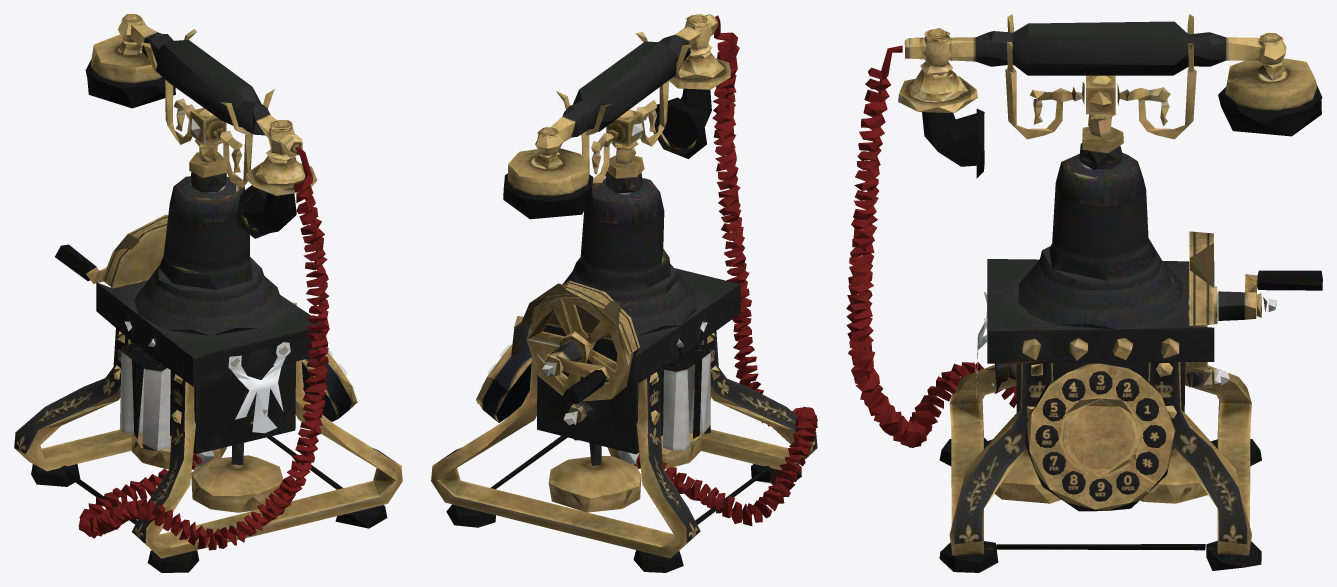
The model's file is telephone-candlestick.lod1.glb.
3 renders of one model, left to right at view 1: azimuth 30°, elevation 25°; view 2: azimuth 150°, elevation 25°; view 3: azimuth 270°, elevation 25°, orthographic. The views are drawn at different scales.
Parts seen in each view (by area): view 1: telephone-candlestick; view 2: telephone-candlestick; view 3: telephone-candlestick.
Part boxes in pixels (x1,y1,x2,y2): telephone-candlestick: (14,14,402,572); telephone-candlestick: (431,14,817,572); telephone-candlestick: (846,14,1322,572).
Bounding box in the file's own units: 0.2135 × 0.3197 × 0.2843.
Materials: 4 (4 with a texture image).
